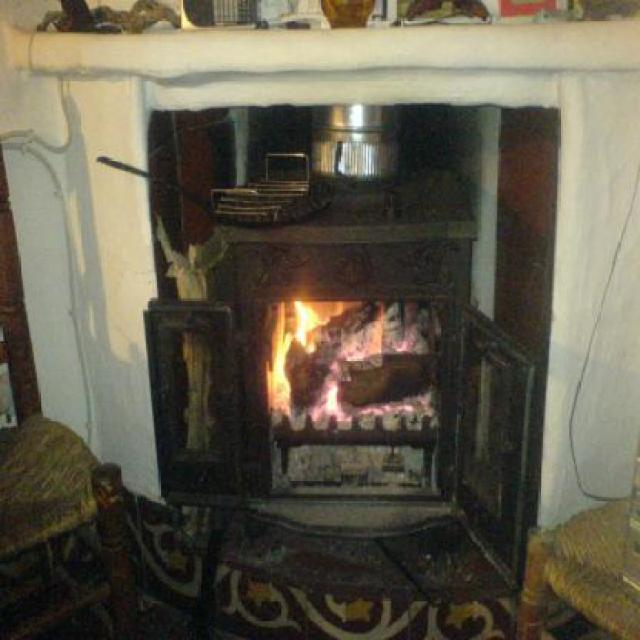Fire: (257, 294, 325, 416)
